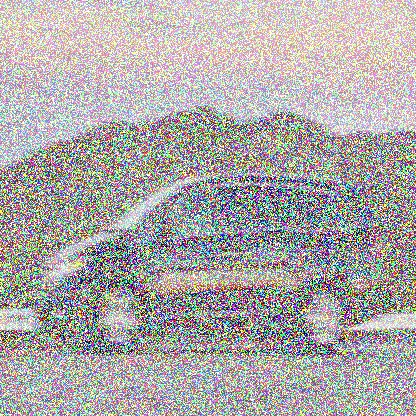Vehicle: (35, 172, 390, 358)
